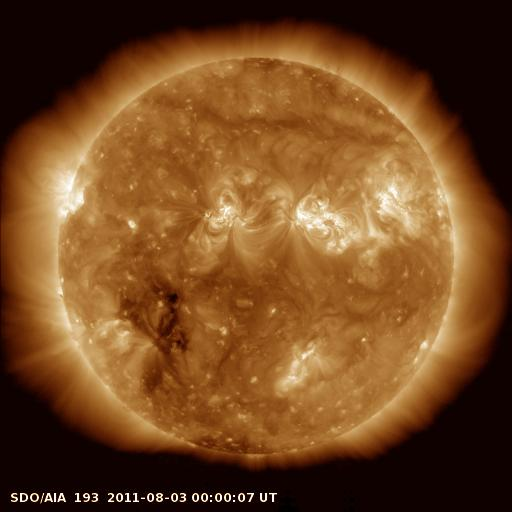coronal_hole: (150, 283, 189, 349)
